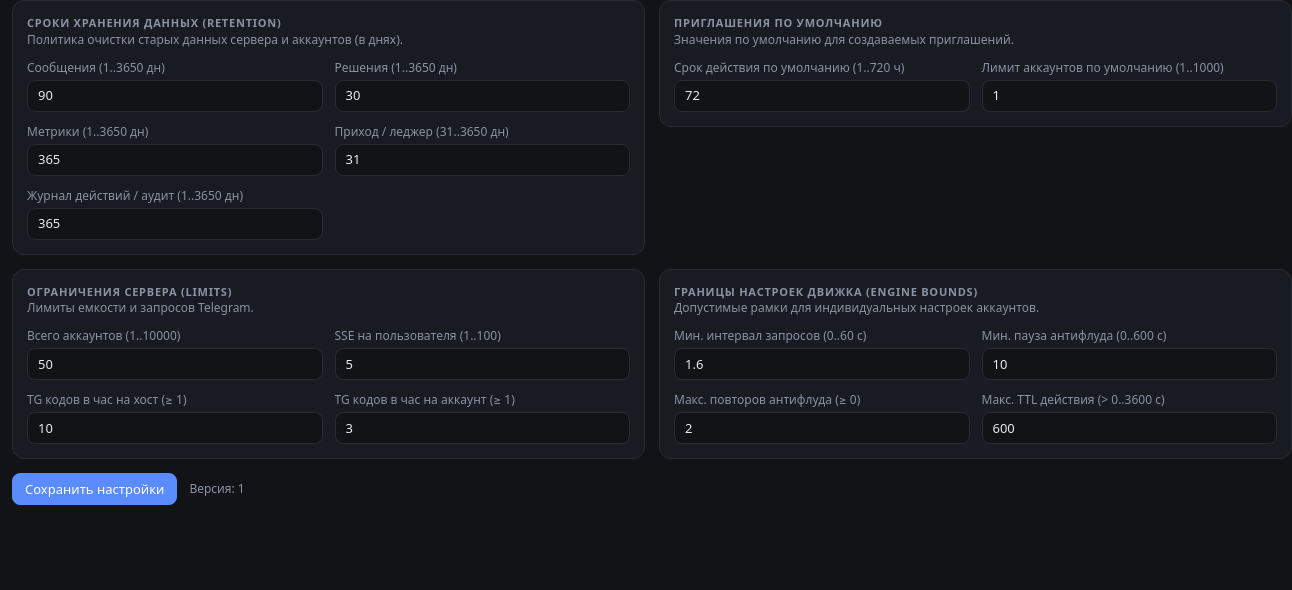
Консоль владельца › настройки сервера: валидация берет границы из schema (messages_days minimum: 10)
Replace the text in the number field showing "90" with "5". click: (175, 96)
box: top-left (27, 80), bottom-right (322, 112)
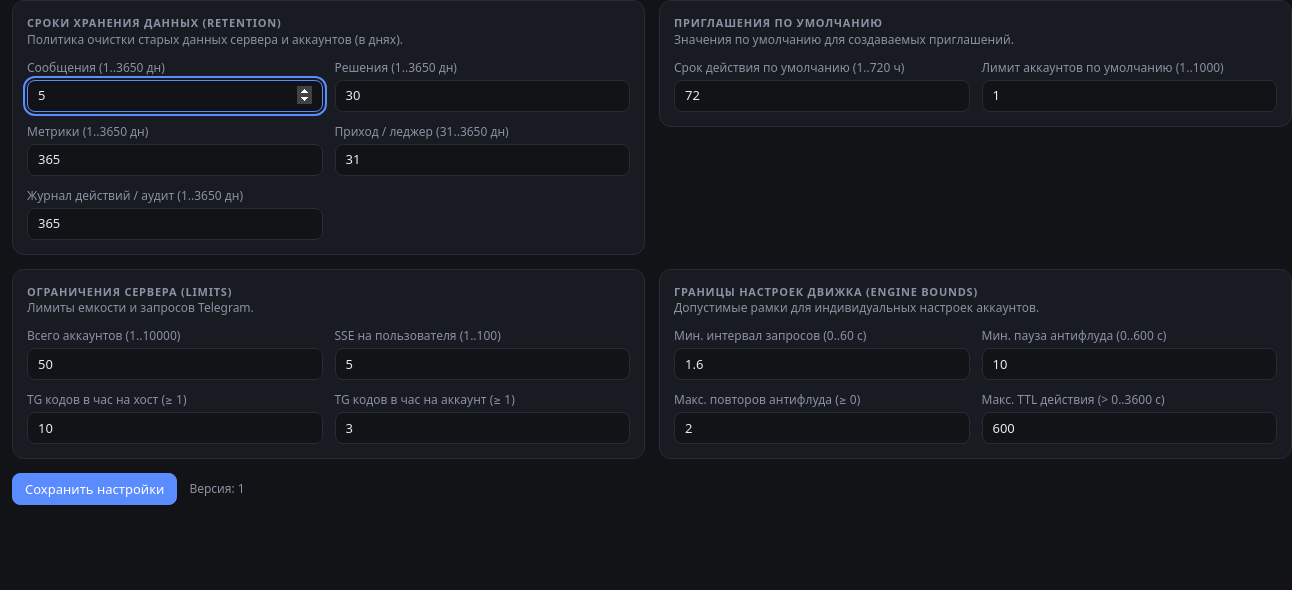
Click the button "Сохранить настройки". click: click(95, 489)
box: top-left (12, 473), bottom-right (177, 505)
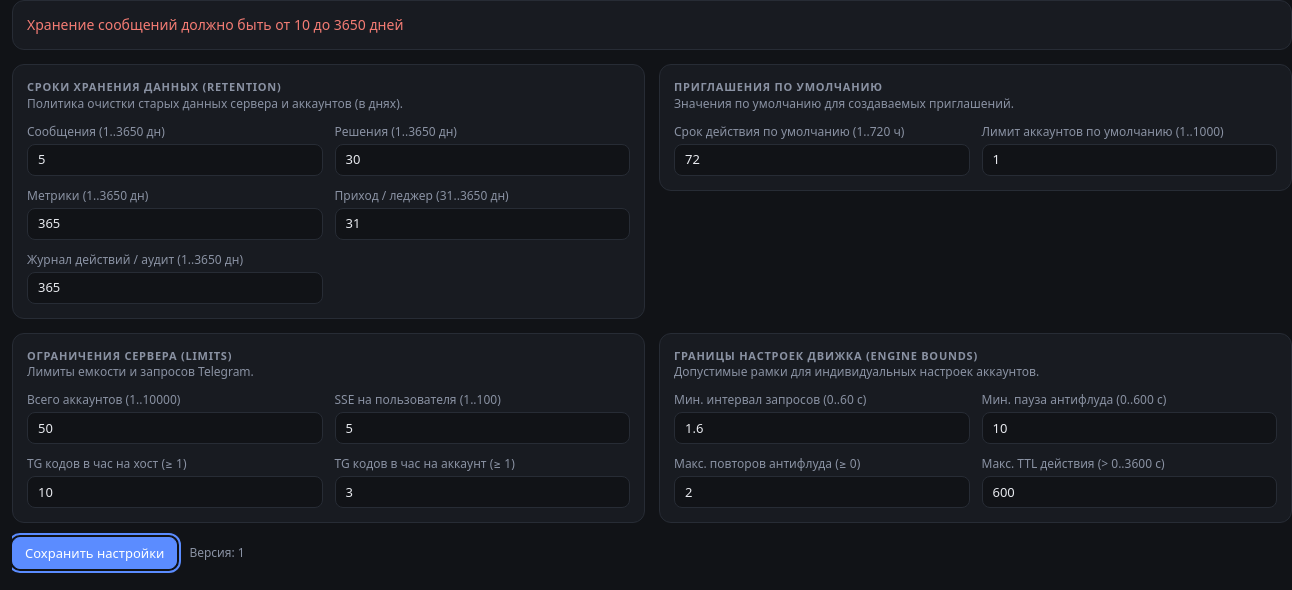
Check: the message shows "10", box top-left (27, 15), bottom-right (403, 34)
